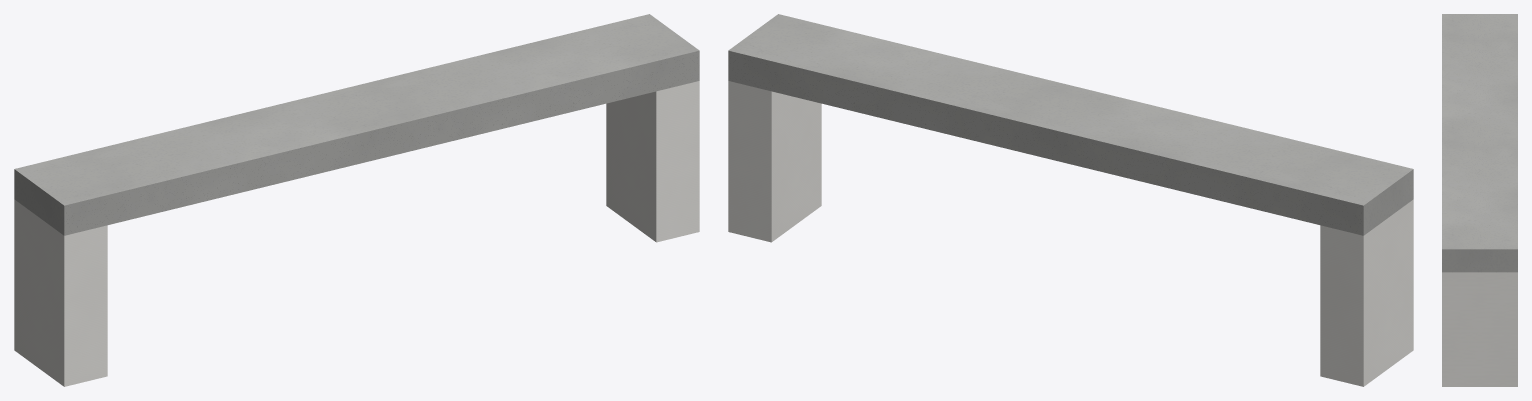
The model's file is eave.gltf.
The picture shows the model from 3 angles, left to right: view 1: azimuth 30°, elevation 25°; view 2: azimuth 150°, elevation 25°; view 3: azimuth 270°, elevation 25°; orthographic projection. The views are drawn at different scales.
Parts seen in each view (by area): view 1: jx_eave; view 2: jx_eave; view 3: jx_eave.
Boxes of the visible parts, bbox=[...] form: jx_eave: bbox=[14, 14, 699, 386]; jx_eave: bbox=[728, 14, 1413, 386]; jx_eave: bbox=[1442, 14, 1517, 386].
Size of the model in its own units: 4.4 by 1.2 by 0.6.
2 materials, 2 textured.
